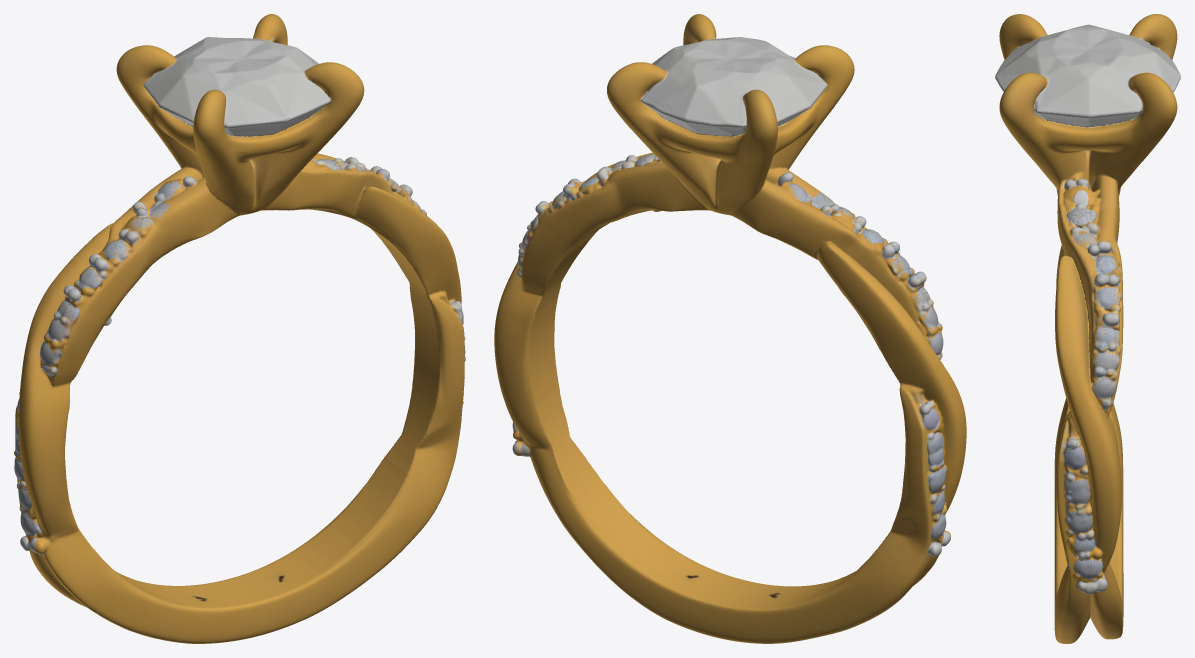
Rendered from diamond ring 3d model.glb.
3 renders of one model, left to right at view 1: azimuth 30°, elevation 25°; view 2: azimuth 150°, elevation 25°; view 3: azimuth 270°, elevation 25°, orthographic.
Visible parts, largest first — view 1: tripo_node_6e3e05e1-def4-4542-9053-11d85dc413cb; view 2: tripo_node_6e3e05e1-def4-4542-9053-11d85dc413cb; view 3: tripo_node_6e3e05e1-def4-4542-9053-11d85dc413cb.
Boxes of the visible parts, x1,y1,x2,y2 form: tripo_node_6e3e05e1-def4-4542-9053-11d85dc413cb: (14, 14, 465, 643); tripo_node_6e3e05e1-def4-4542-9053-11d85dc413cb: (494, 14, 966, 643); tripo_node_6e3e05e1-def4-4542-9053-11d85dc413cb: (995, 14, 1180, 643).
Size of the model in its own units: 0.8244 by 1 by 0.294.
Materials: 1 (1 with a texture image).
